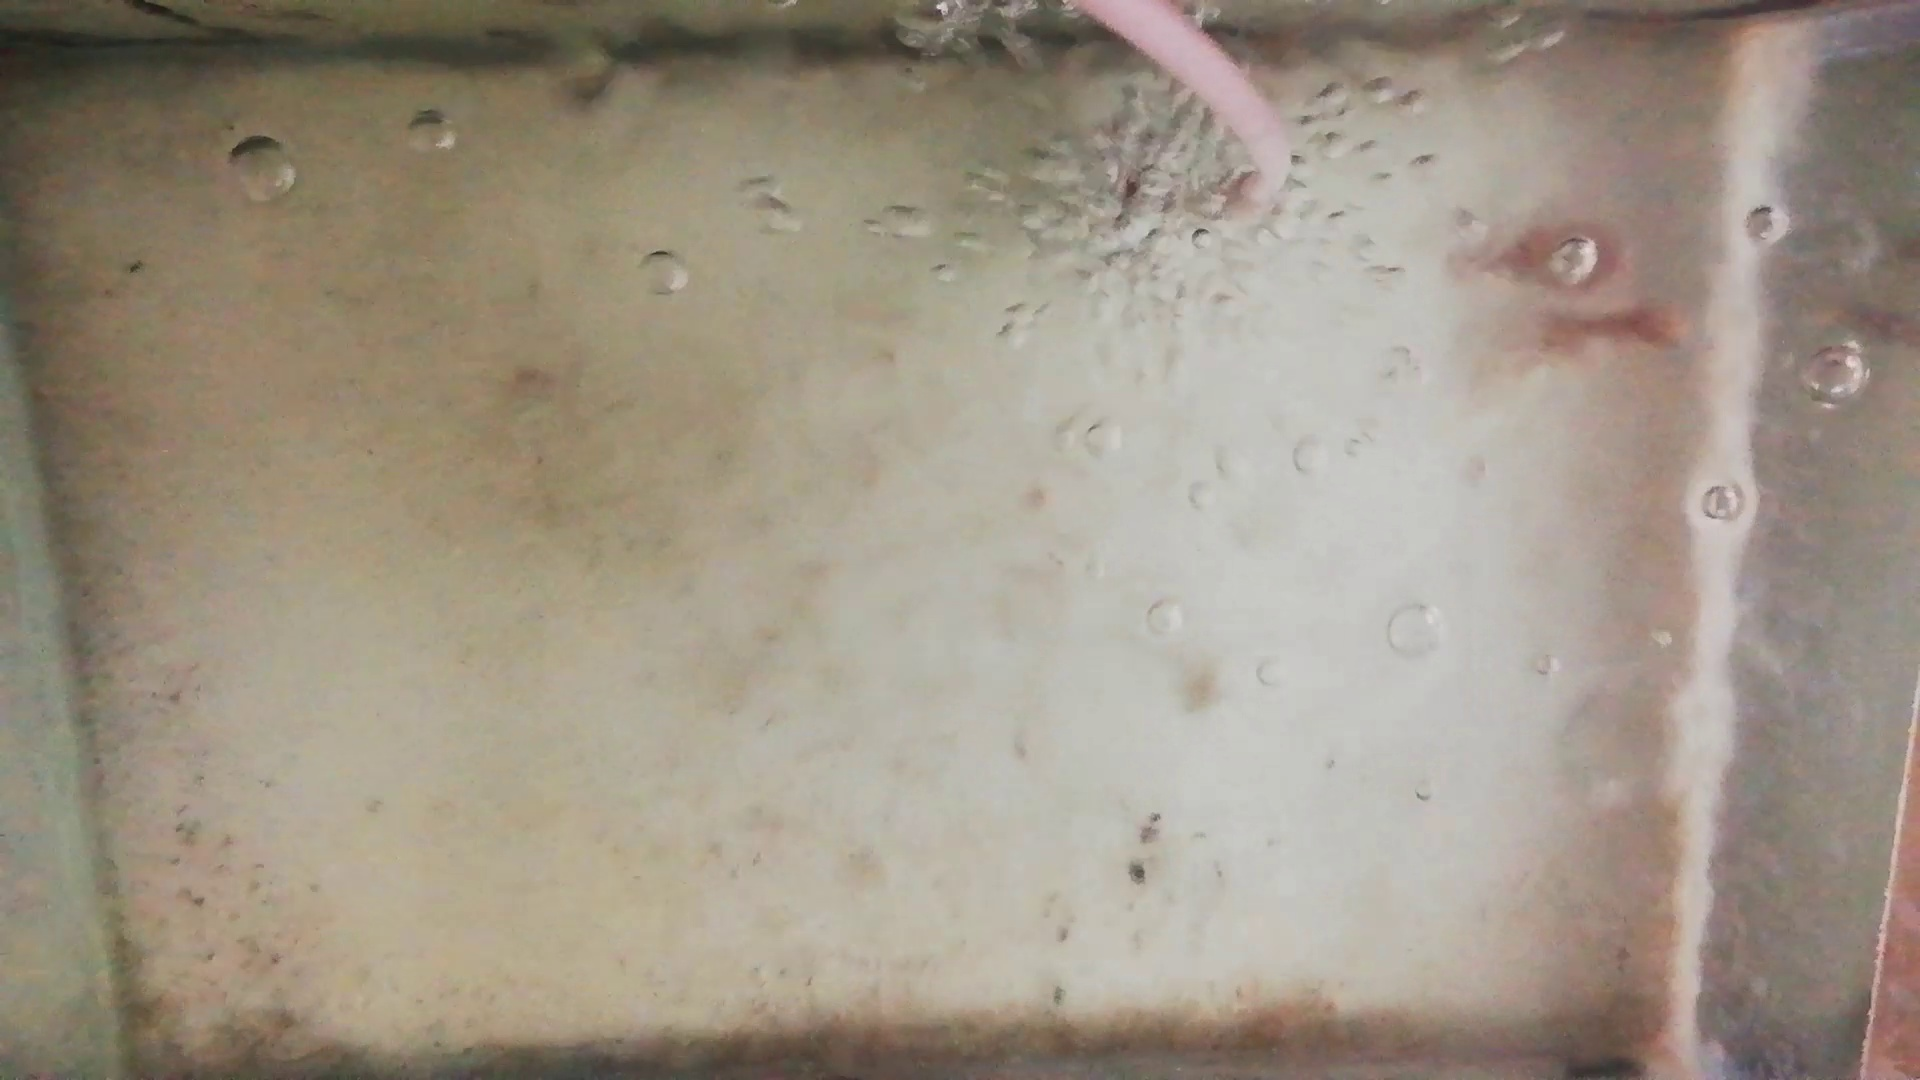fish: (1455, 222, 1633, 287), (1505, 306, 1691, 367)
